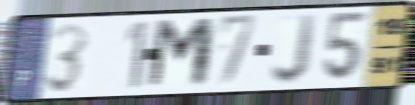1: (124, 18, 151, 93)
3: (43, 21, 95, 95)
5: (320, 10, 371, 86)
7: (212, 12, 258, 91)
J: (269, 11, 319, 87)
M: (145, 16, 218, 92)
